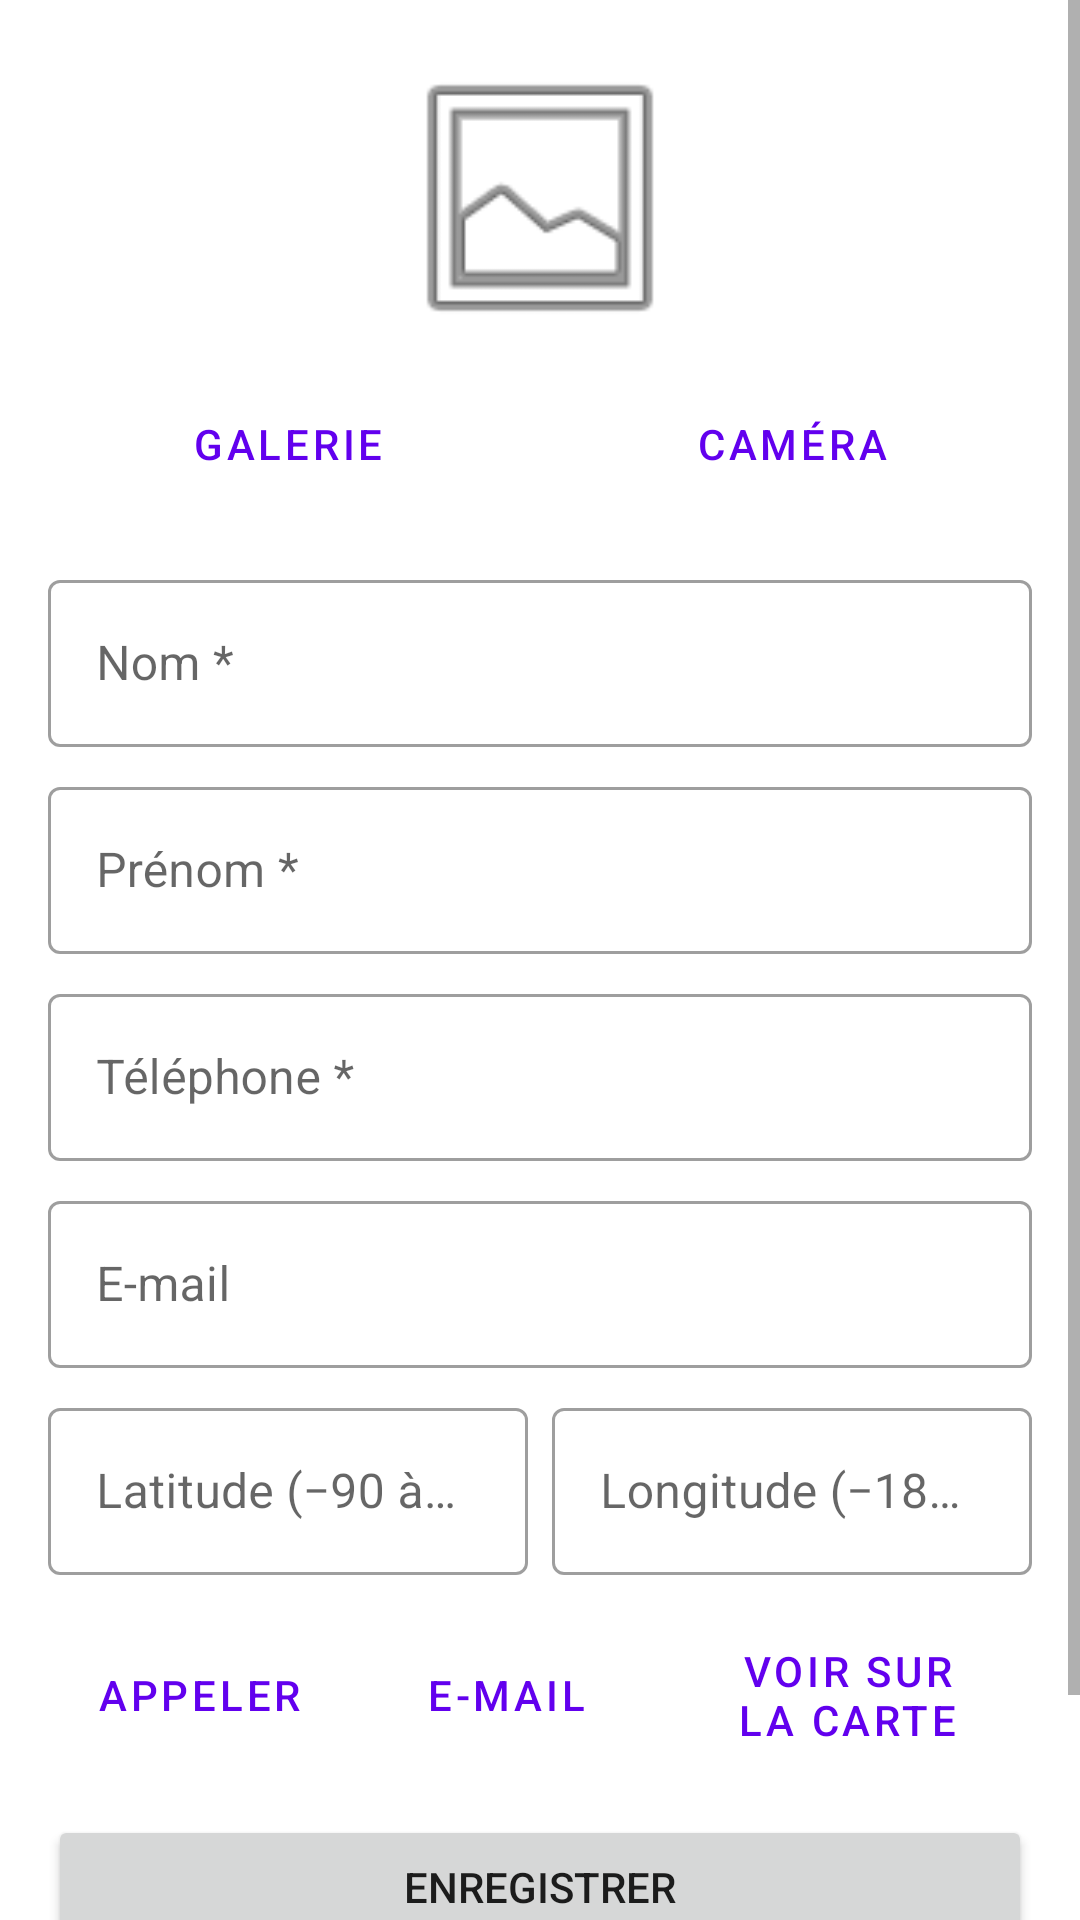

Icon click points for this 1080x1920 phone screenshot, format [x,y]:
gallery: [540,198]
